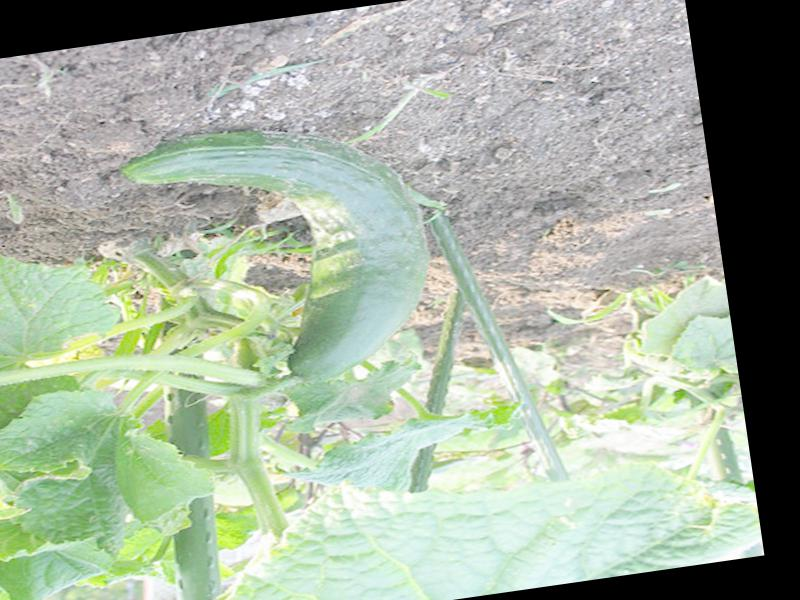Cucumber: (115, 103, 446, 405)
